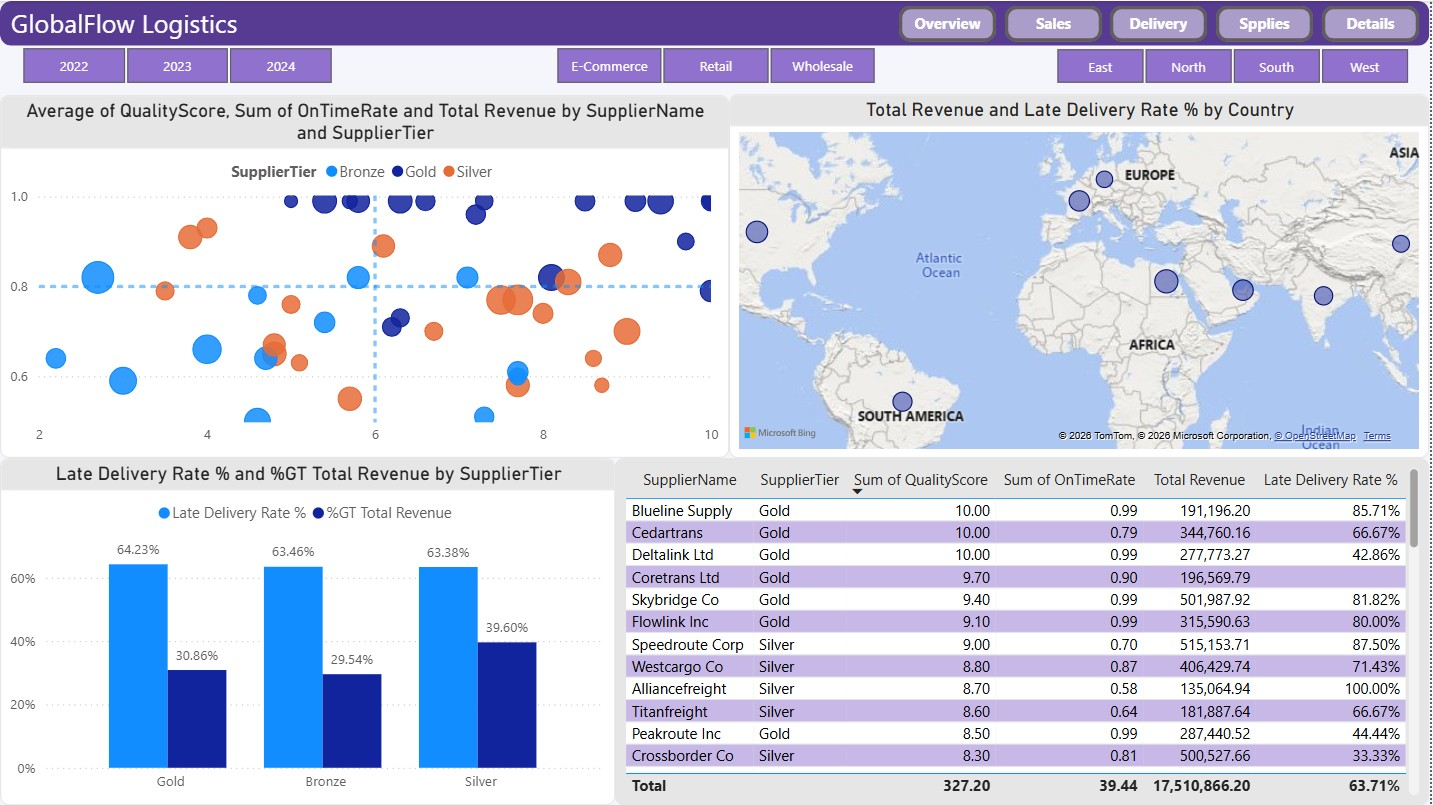

Layout of this report page (visuals, bound fields, positions):
{"tool":"powerbi","page":{"name":"Suppliers","canvas":[1280,720],"ordinal":3},"visuals":[{"type":"shape","title":"GlobalFlow Logistics","box":[0,0,1280,40],"z":0},{"type":"actionButton","box":[805.1,4.4,86.9,31.9],"z":1000},{"type":"actionButton","box":[899.7,4.4,86.9,31.9],"z":2000},{"type":"actionButton","box":[994.3,4.4,86.9,31.9],"z":3000},{"type":"actionButton","box":[1088.9,4.4,86.9,31.9],"z":4000},{"type":"actionButton","box":[1183.7,4.4,86.9,31.9],"z":5000},{"type":"slicer","fields":{"Values":["Orders.Year"]},"box":[0,40.7,316.1,34.9],"z":6000},{"type":"slicer","fields":{"Values":["Orders.CustomerSegment"]},"box":[477.9,40.7,324.2,34.9],"z":7000},{"type":"slicer","fields":{"Values":["Orders.Region"]},"box":[926.3,41.2,353.7,34],"z":8000},{"type":"scatterChart","fields":{"Y":["Sum(Suppliers.OnTimeRate)"],"Size":["_Measures.Total Revenue"],"Category":["Suppliers.SupplierName"],"Series":["Suppliers.SupplierTier"],"X":["Avg(Suppliers.QualityScore)"]},"box":[0,84.5,652.7,325.5],"z":9000},{"type":"clusteredColumnChart","fields":{"Category":["Suppliers.SupplierTier"],"Y":["_Measures.Late Delivery Rate %","_Measures.Total Revenue"]},"box":[0,409.3,550.7,310.7],"z":10000},{"type":"map","fields":{"Category":["Suppliers.Country"],"Size":["_Measures.Total Revenue"]},"box":[652.8,83.3,626.9,326],"z":11000},{"type":"tableEx","fields":{"Values":["Suppliers.SupplierName","Suppliers.SupplierTier","Sum(Suppliers.QualityScore)","Sum(Suppliers.OnTimeRate)","_Measures.Total Revenue","_Measures.Late Delivery Rate %"]},"box":[550.7,409.3,729,310.7],"z":12000}]}

Visuals, with their boxes in screenshot pixels (x1, y1, x2, y2), scaled from the page's 1280x720 canvas onto the 1433x805 screenshot:
"GlobalFlow Logistics" shape: bbox(0, 0, 1432, 45)
actionButton: bbox(901, 5, 999, 41)
actionButton: bbox(1007, 5, 1105, 41)
actionButton: bbox(1113, 5, 1210, 41)
actionButton: bbox(1219, 5, 1316, 41)
actionButton: bbox(1325, 5, 1422, 41)
slicer - Orders.Year: bbox(0, 46, 354, 85)
slicer - Orders.CustomerSegment: bbox(535, 46, 898, 85)
slicer - Orders.Region: bbox(1037, 46, 1432, 84)
scatterChart - Sum(Suppliers.OnTimeRate) x _Measures.Total Revenue: bbox(0, 94, 731, 458)
clusteredColumnChart - Suppliers.SupplierTier x _Measures.Late Delivery Rate %: bbox(0, 458, 617, 804)
map - Suppliers.Country x _Measures.Total Revenue: bbox(731, 93, 1432, 458)
tableEx - Suppliers.SupplierName x Suppliers.SupplierTier: bbox(617, 458, 1432, 804)
